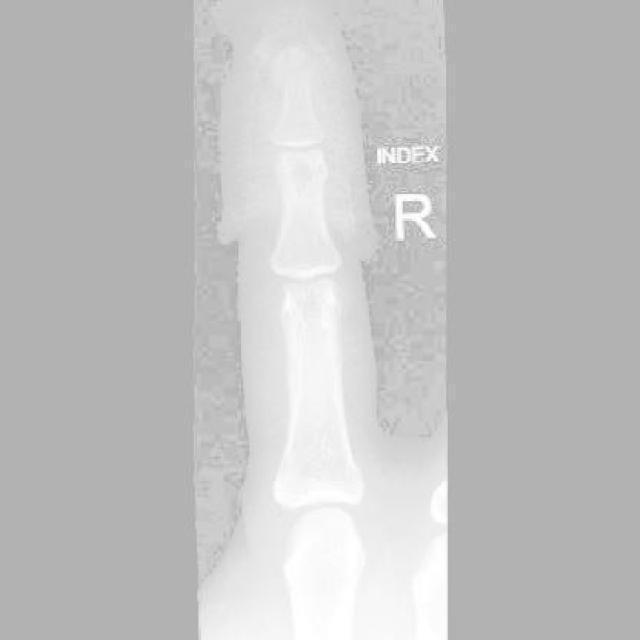Fracture: (265, 40, 318, 89)
